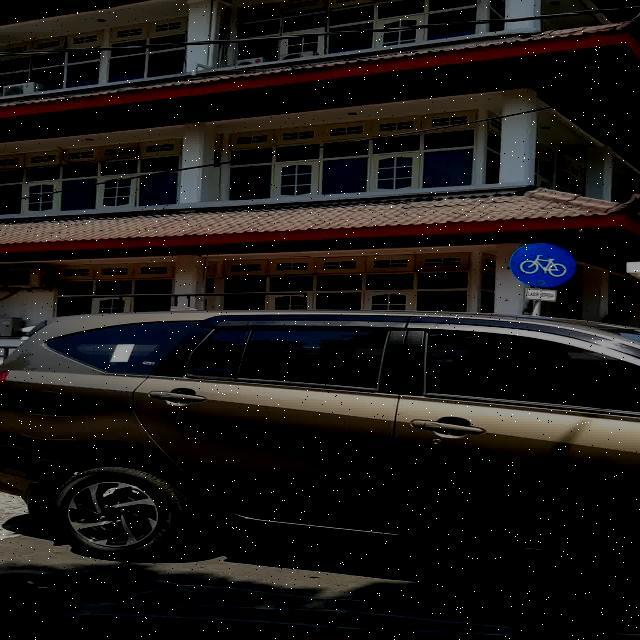Jalur Sepeda: (510, 242, 578, 288)
